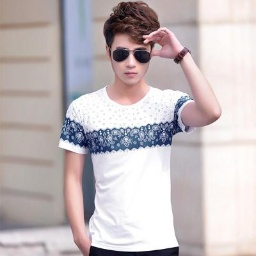face: (103, 1, 161, 87)
